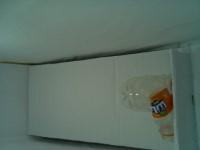bottle: (0, 0, 34, 37)
